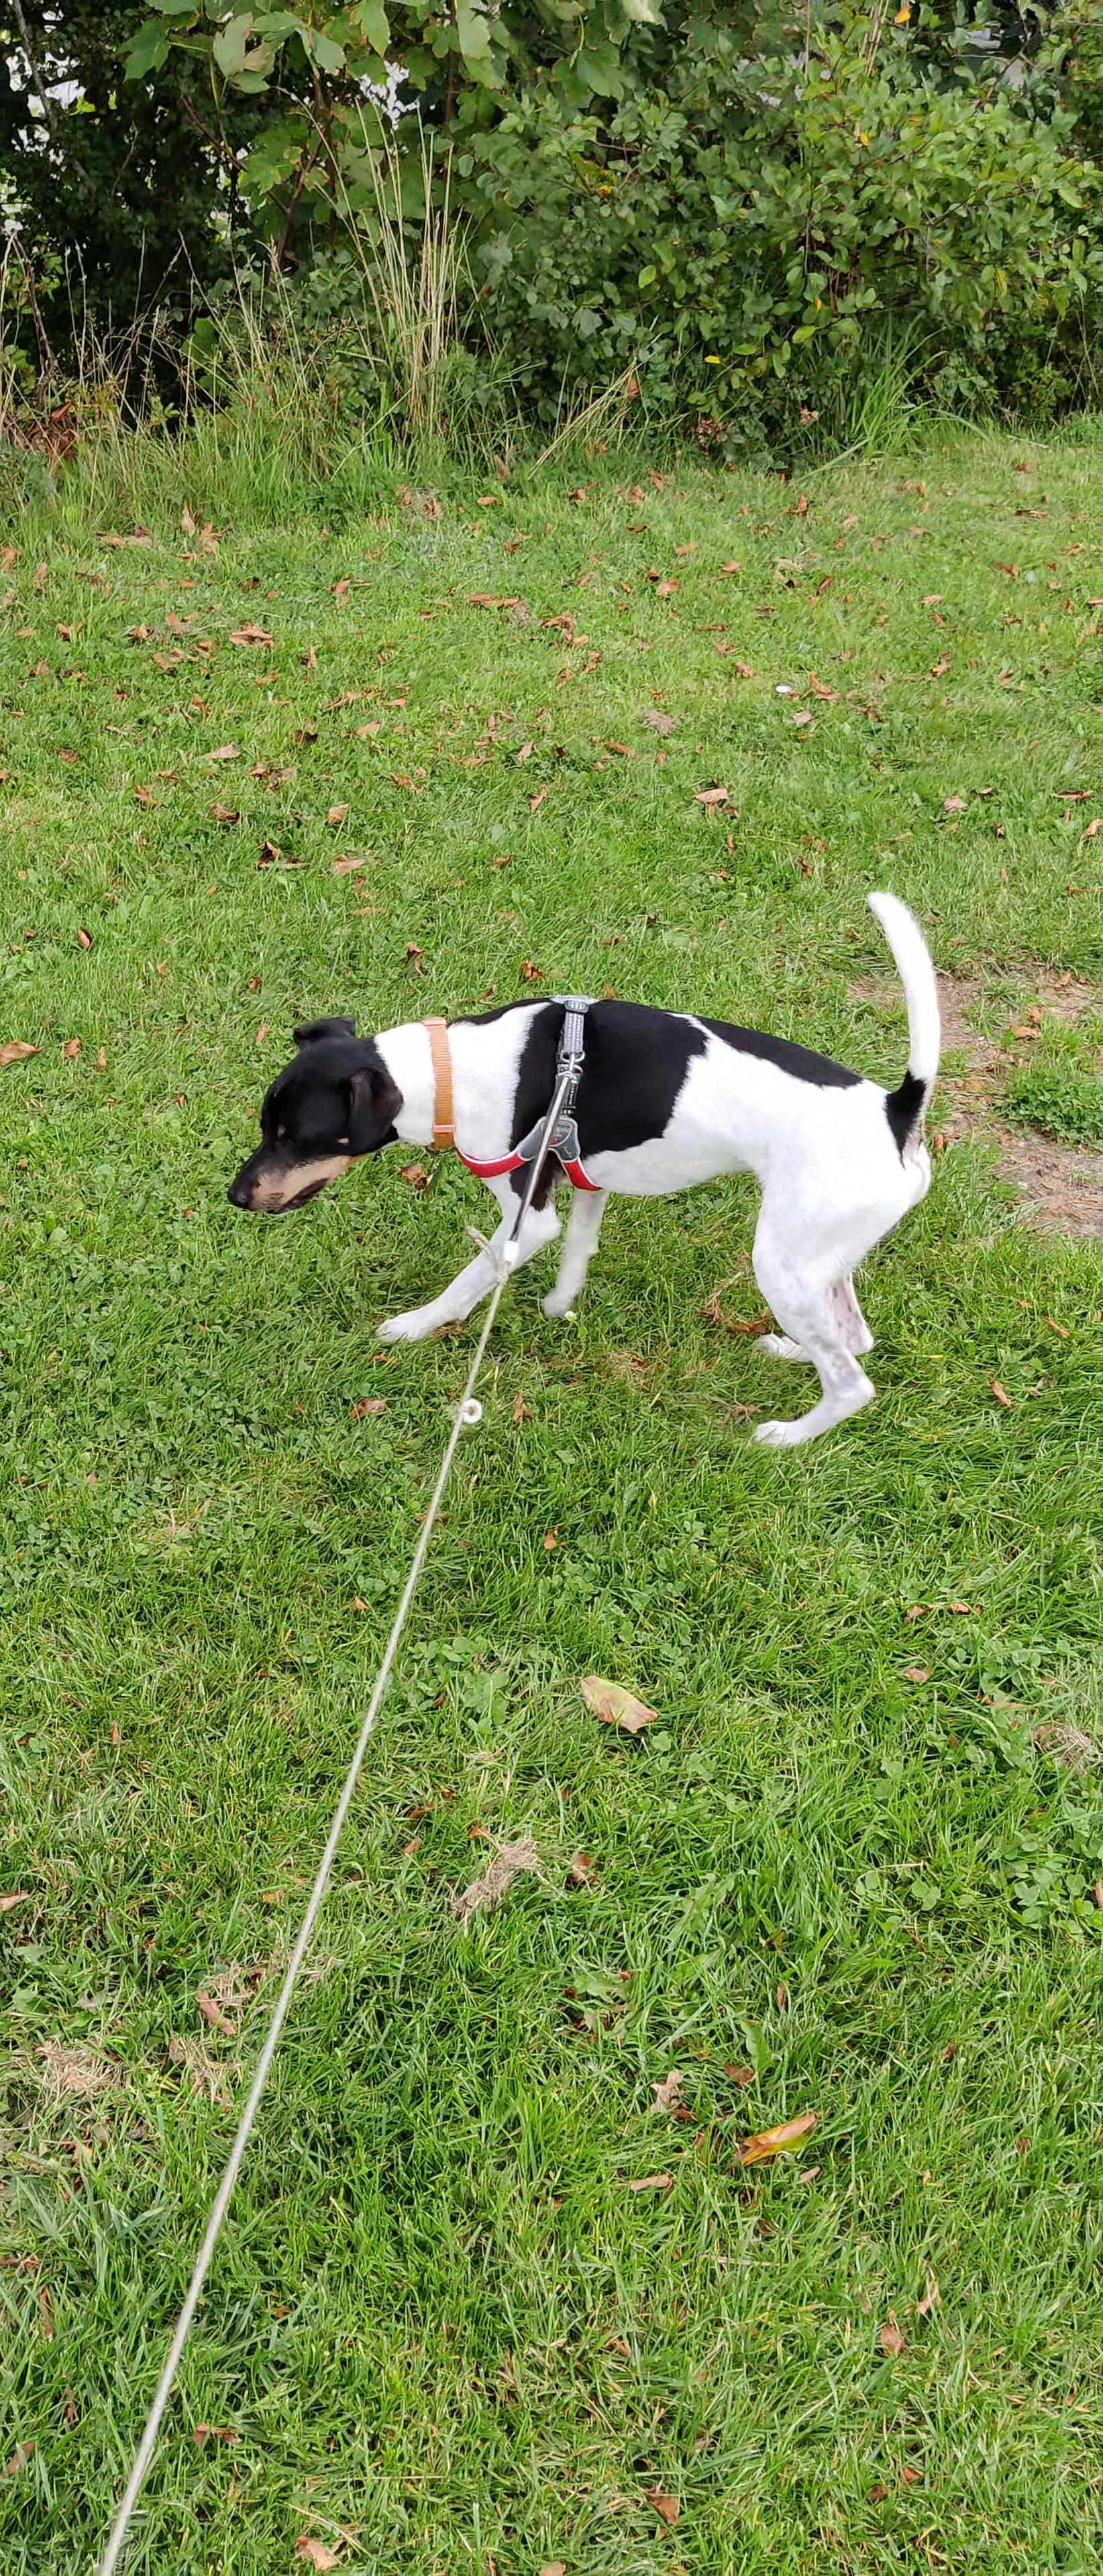Dog: (217, 884, 947, 1456)
